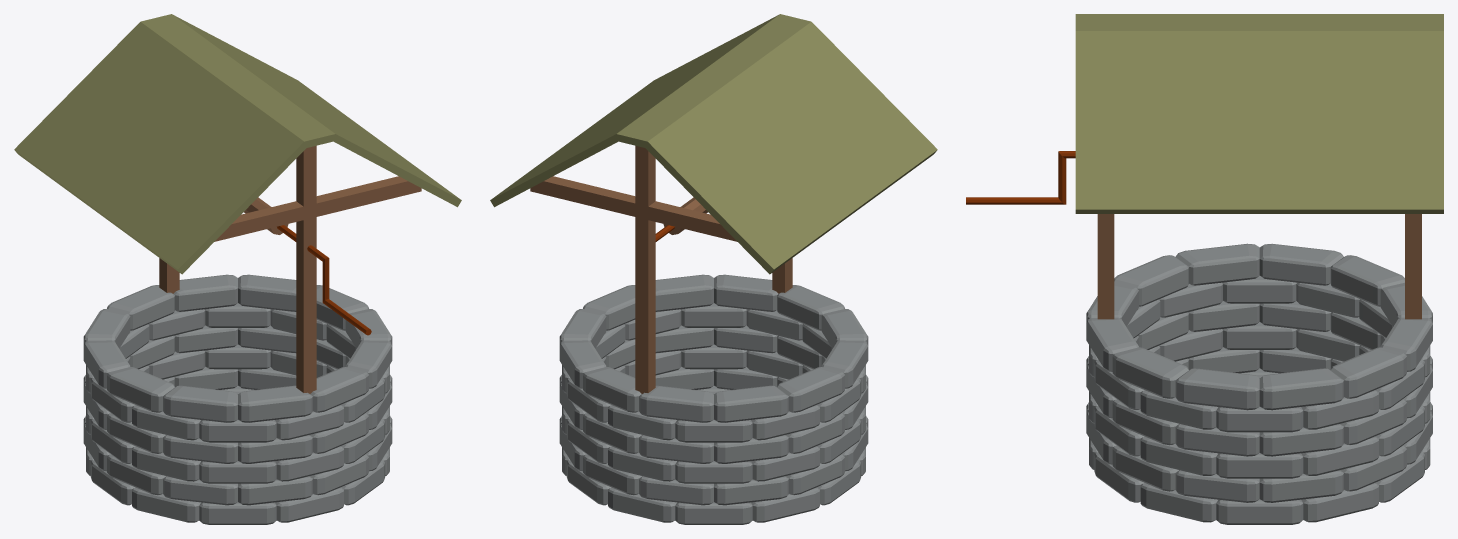
The model's file is Well.fbx.
3 renders of one model, left to right at view 1: azimuth 30°, elevation 25°; view 2: azimuth 150°, elevation 25°; view 3: azimuth 270°, elevation 25°, orthographic. The views are drawn at different scales.
Parts seen in each view (by area): view 1: Cube.080, Plane, Cube.081; view 2: Cube.080, Plane, Cube.081; view 3: Cube.080, Plane, Cube.081.
Boxes of the visible parts, x1,y1,x2,y2 form: Cube.080: [83, 274, 392, 524]; Plane: [14, 14, 461, 274]; Cube.081: [159, 145, 421, 393]; Cube.080: [559, 274, 868, 524]; Plane: [490, 14, 937, 274]; Cube.081: [530, 145, 792, 393]; Cube.080: [1086, 243, 1432, 524]; Plane: [1075, 14, 1443, 213]; Cube.081: [966, 151, 1421, 319].
Size of the model in its own units: 637 by 823 by 826.
